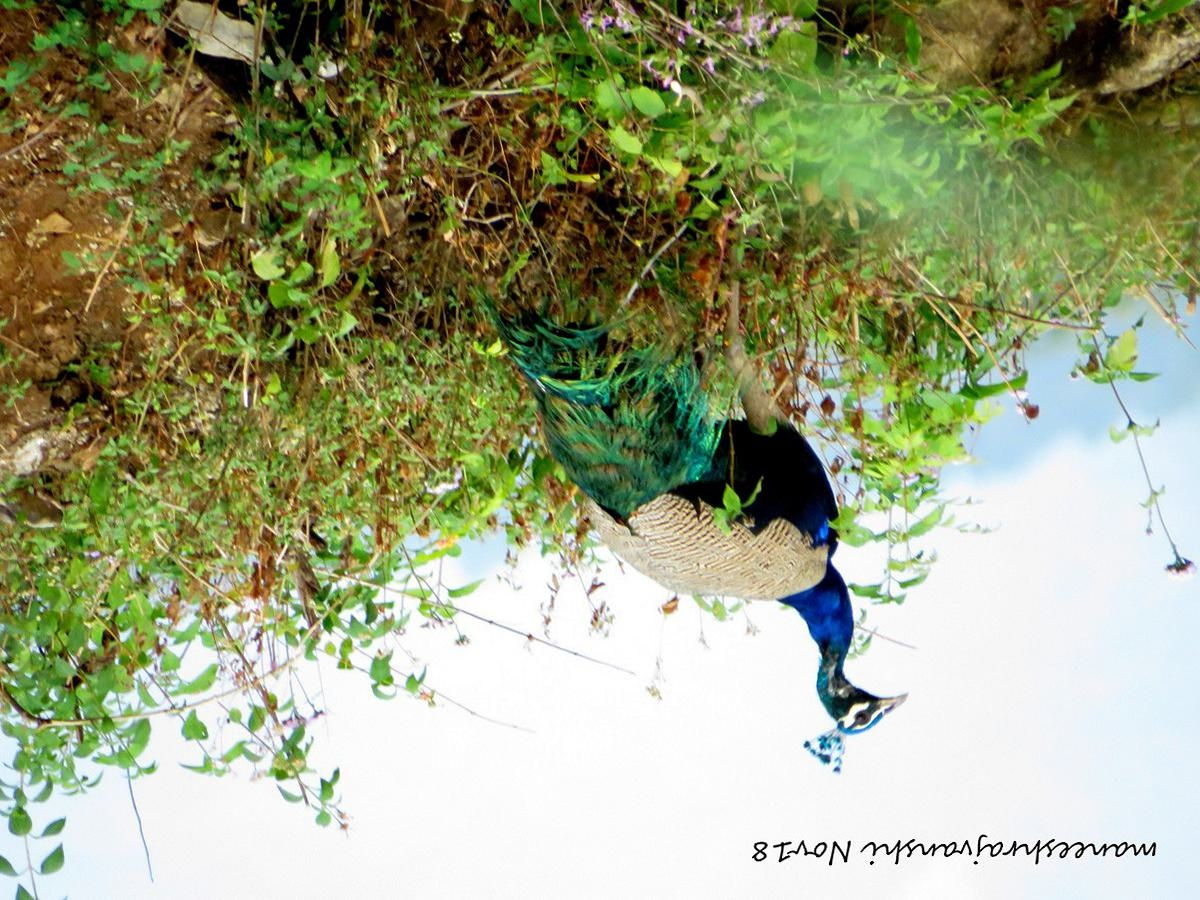peacock: (381, 210, 930, 753)
